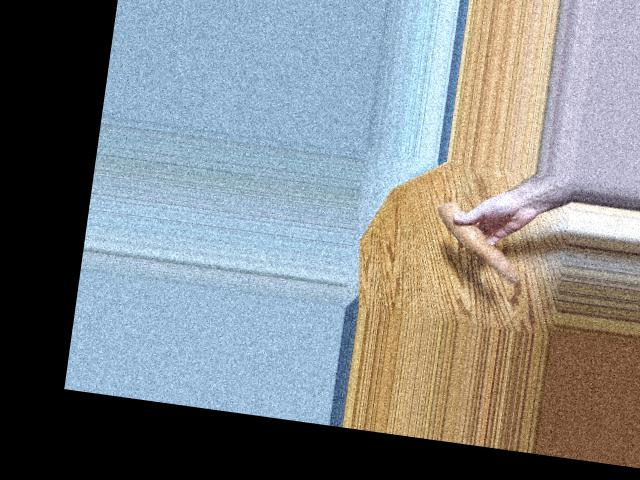sweet_potato: (437, 200, 527, 281)
